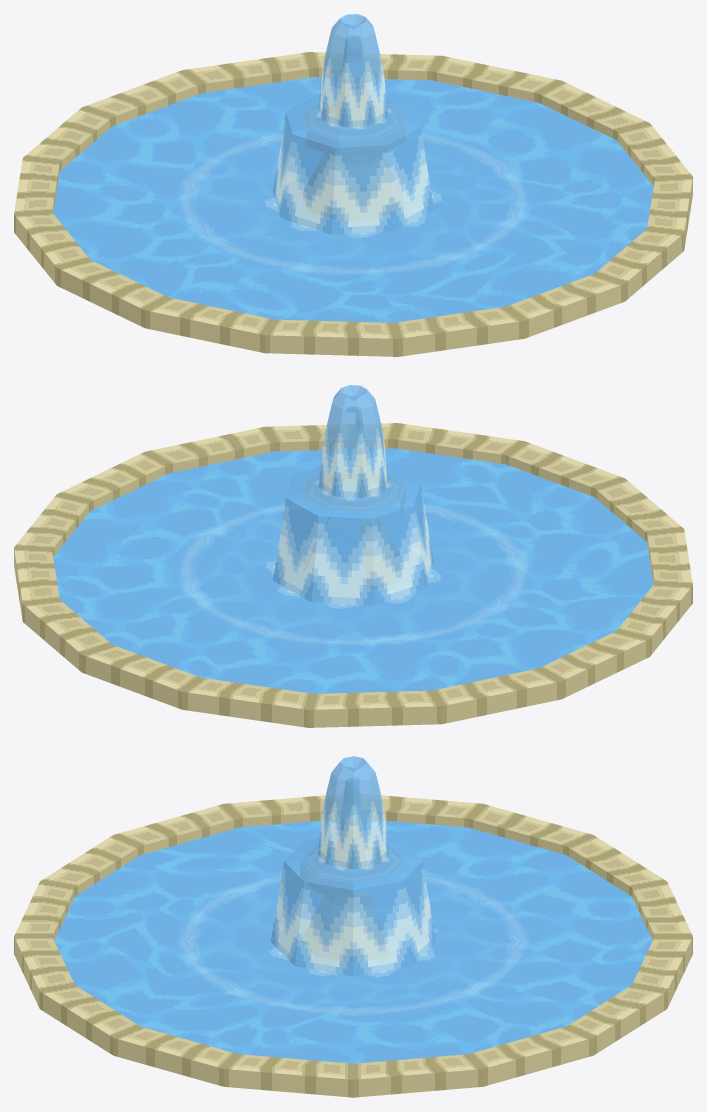
3 views of the same model, one above another, from view 1: azimuth 30°, elevation 25°; view 2: azimuth 150°, elevation 25°; view 3: azimuth 270°, elevation 25° (orthographic).
Size of the model in its own units: 12.93 by 4.04 by 12.93.
Materials: 8 (8 with a texture image).
